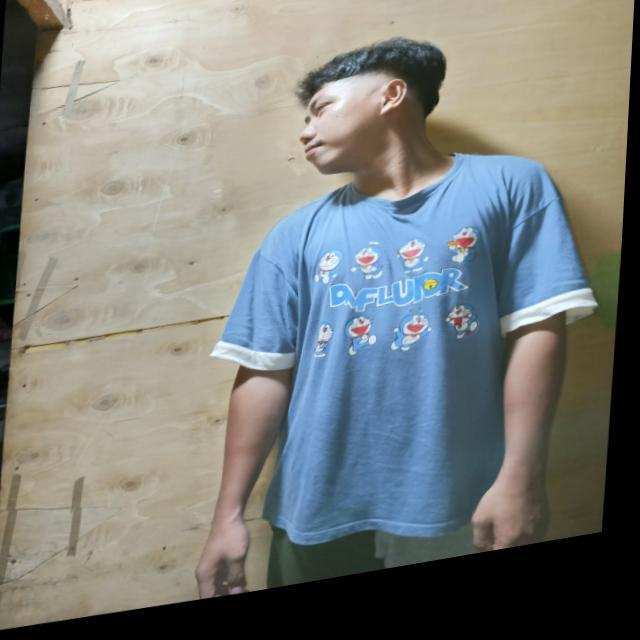Nonhelmet: (282, 22, 448, 179)
